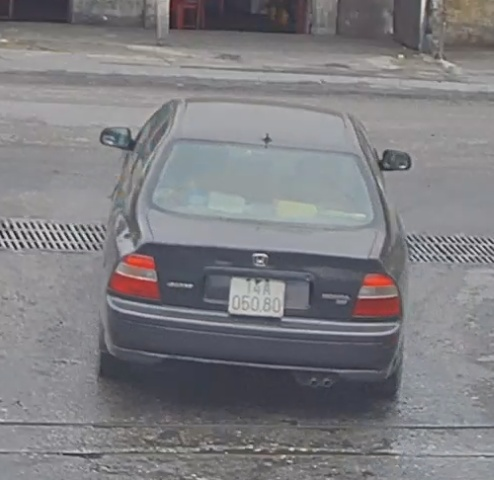vehicle plate: (228, 270, 288, 318)
